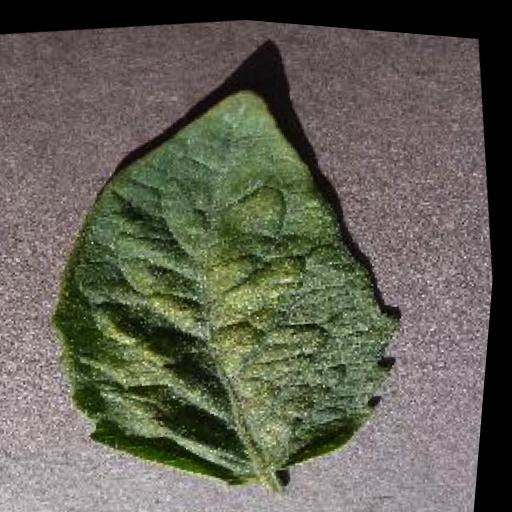Spider Mites: (18, 49, 436, 512)
